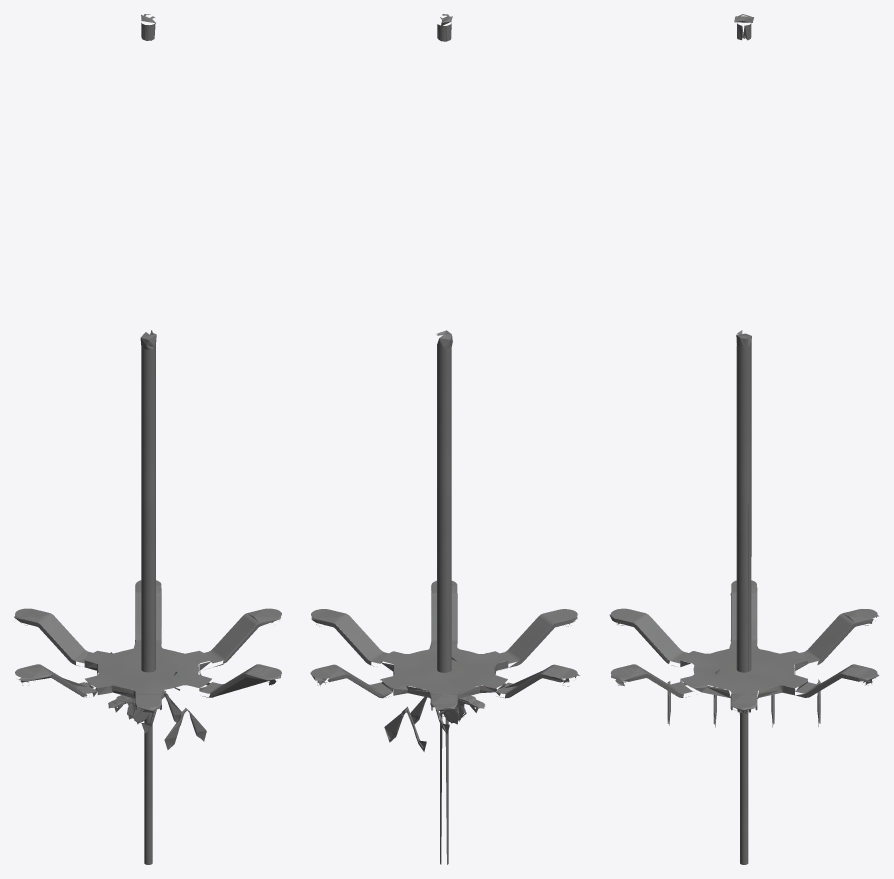
The model's file is IV_pole_a01.glb.
3 views of the same model, side by side, from view 1: azimuth 30°, elevation 25°; view 2: azimuth 150°, elevation 25°; view 3: azimuth 270°, elevation 25° (orthographic).
Visible parts, largest first — view 1: geometry_0; view 2: geometry_0; view 3: geometry_0.
Part boxes in pixels (x1,y1,x2,y2): geometry_0: (14,14,281,864); geometry_0: (310,14,579,864); geometry_0: (609,14,879,864).
Bounding box in the file's own units: 0.1382 × 0.42 × 0.1215.
1 material, 1 textured.
